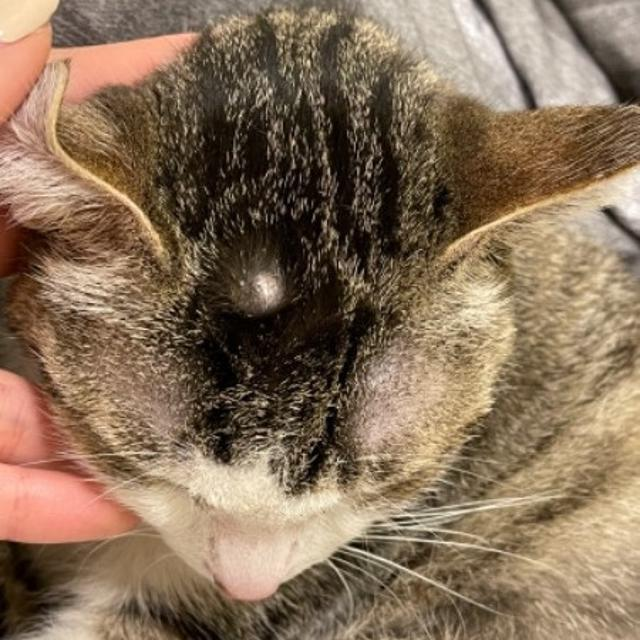lump_and_bump: (242, 269, 293, 317)
